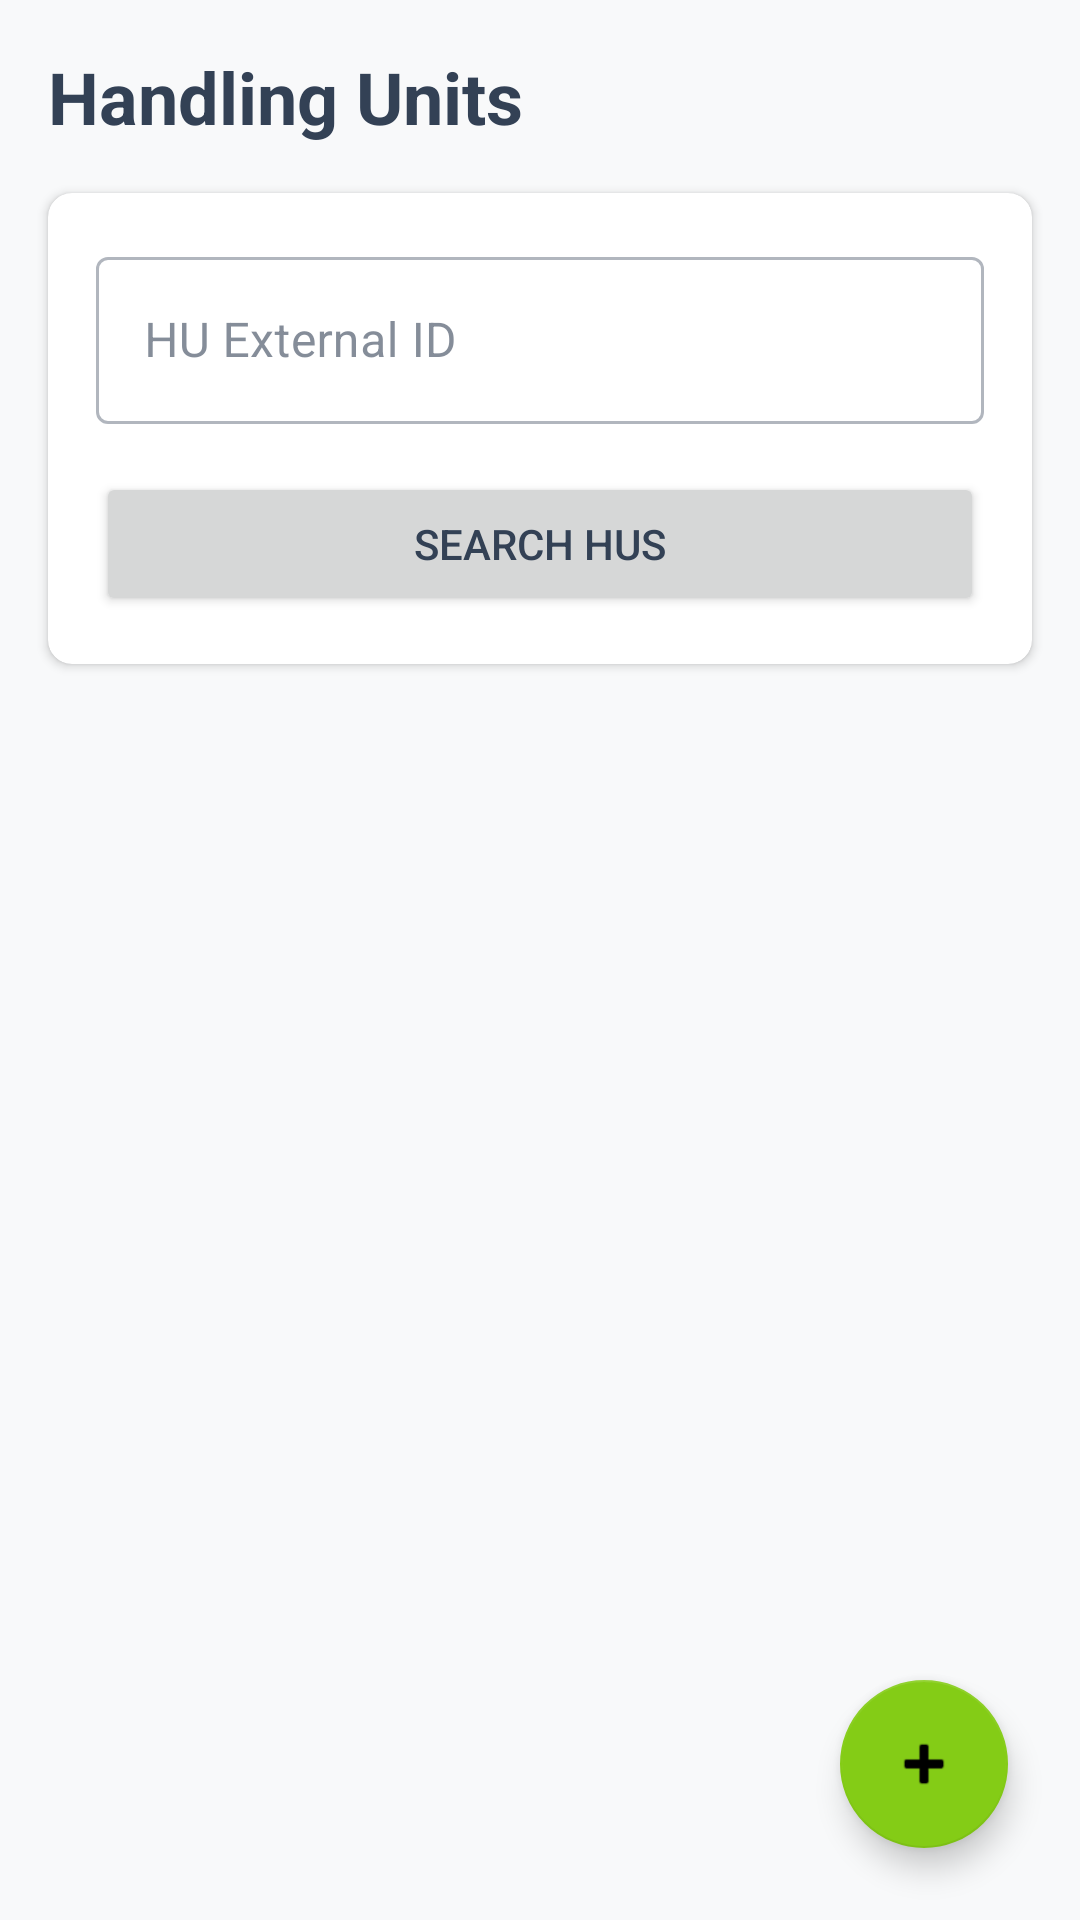

Locate icon controls on the screen. Image size 1080×1920, boxes as (x1, y1, x2, y2).
Create Handling Unit: (840, 1680, 1008, 1848)
